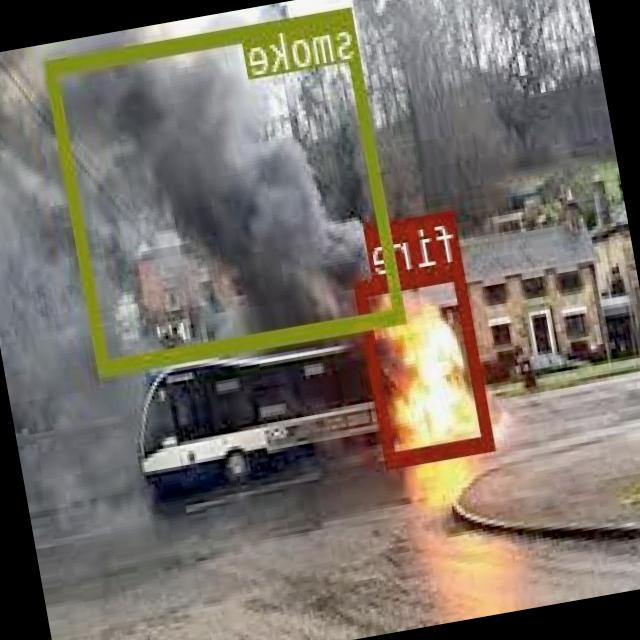fire: (355, 260, 496, 465)
smoke: (46, 4, 408, 372)
